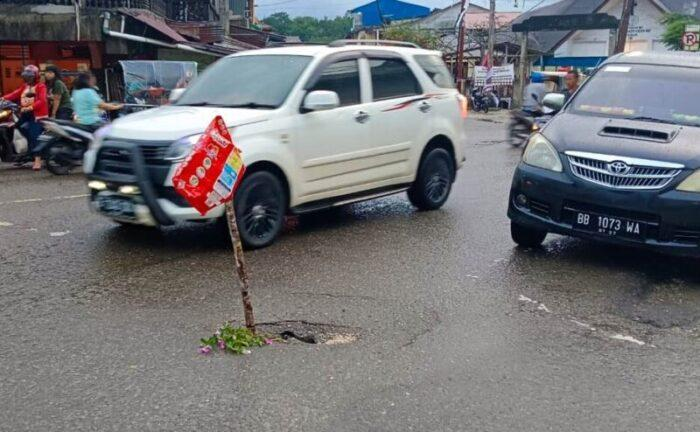Pothole: (198, 302, 403, 376), (512, 288, 699, 367)
